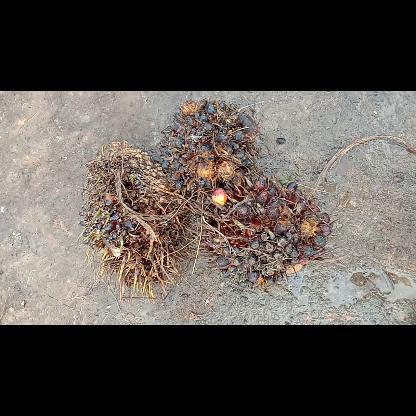TBS abnormal: (79, 141, 192, 303), (192, 176, 330, 286), (152, 98, 256, 204)
